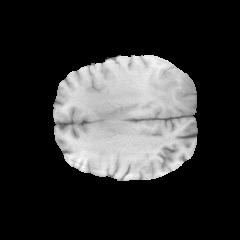glioma: (126, 61, 195, 116)
